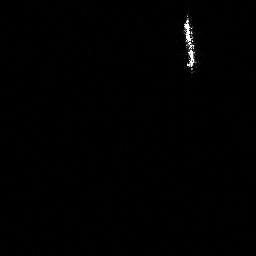ship: (179, 11, 201, 76)
